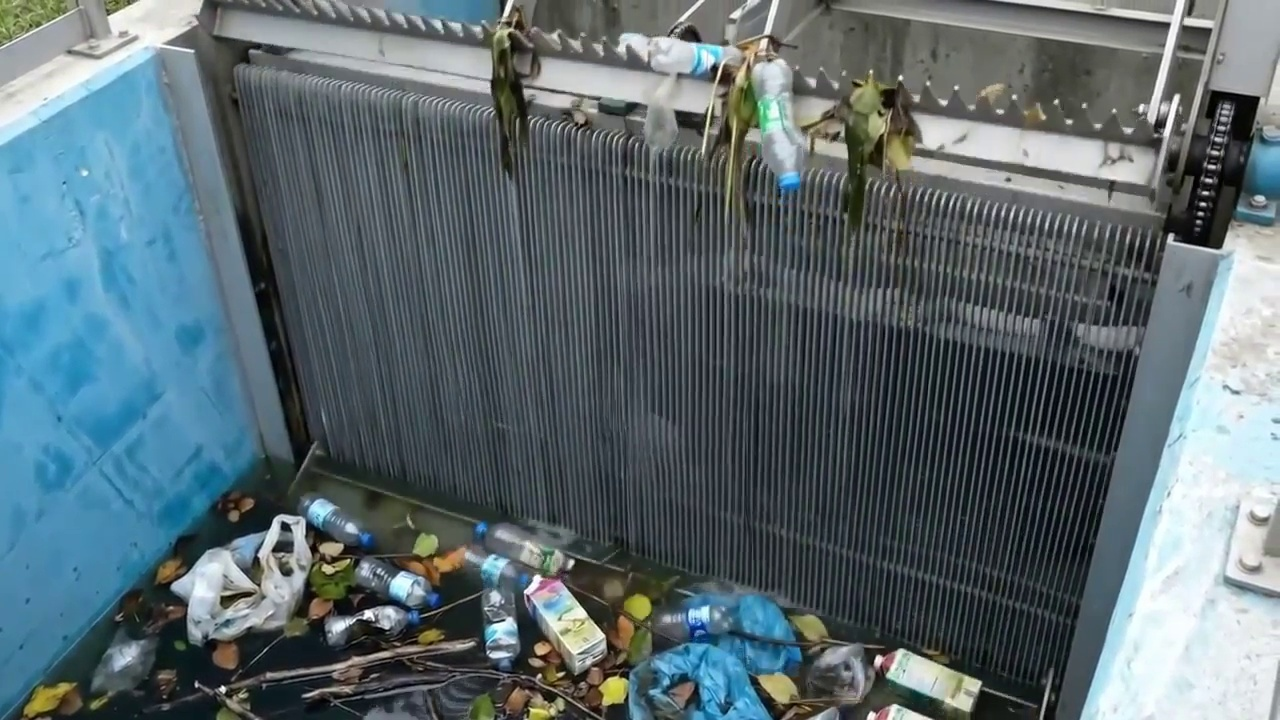debris: (630, 595, 800, 719), (463, 525, 605, 671), (174, 526, 316, 640), (220, 639, 476, 692), (326, 558, 439, 646), (850, 649, 981, 719), (92, 628, 158, 693), (809, 646, 862, 686), (867, 703, 933, 719), (148, 695, 200, 709), (306, 501, 331, 526)
